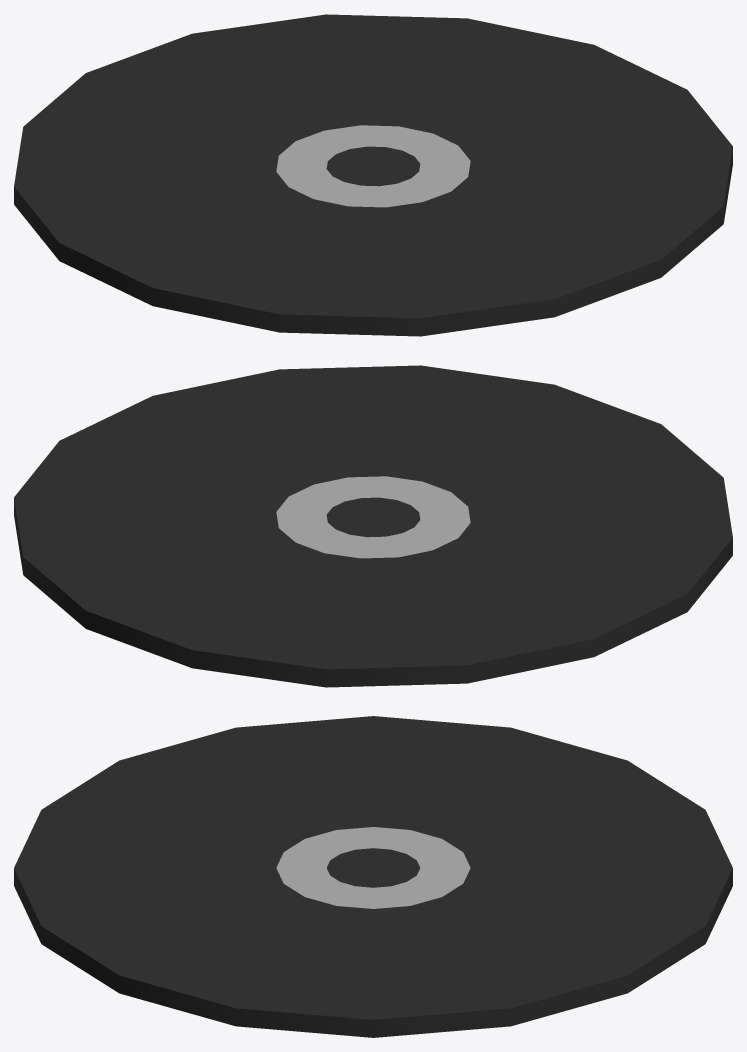
File: Record_01.fbx
3 views of the same model, one above another, from view 1: azimuth 30°, elevation 25°; view 2: azimuth 150°, elevation 25°; view 3: azimuth 270°, elevation 25° (orthographic).
Parts seen in each view (by area): view 1: Record_01; view 2: Record_01; view 3: Record_01.
Part boxes in pixels (box(x1,y1,x2,y2)): Record_01: box(14, 14, 732, 336); Record_01: box(14, 365, 732, 687); Record_01: box(14, 716, 732, 1037).
Size of the model in its own units: 0.2982 by 0.00826 by 0.2982.
